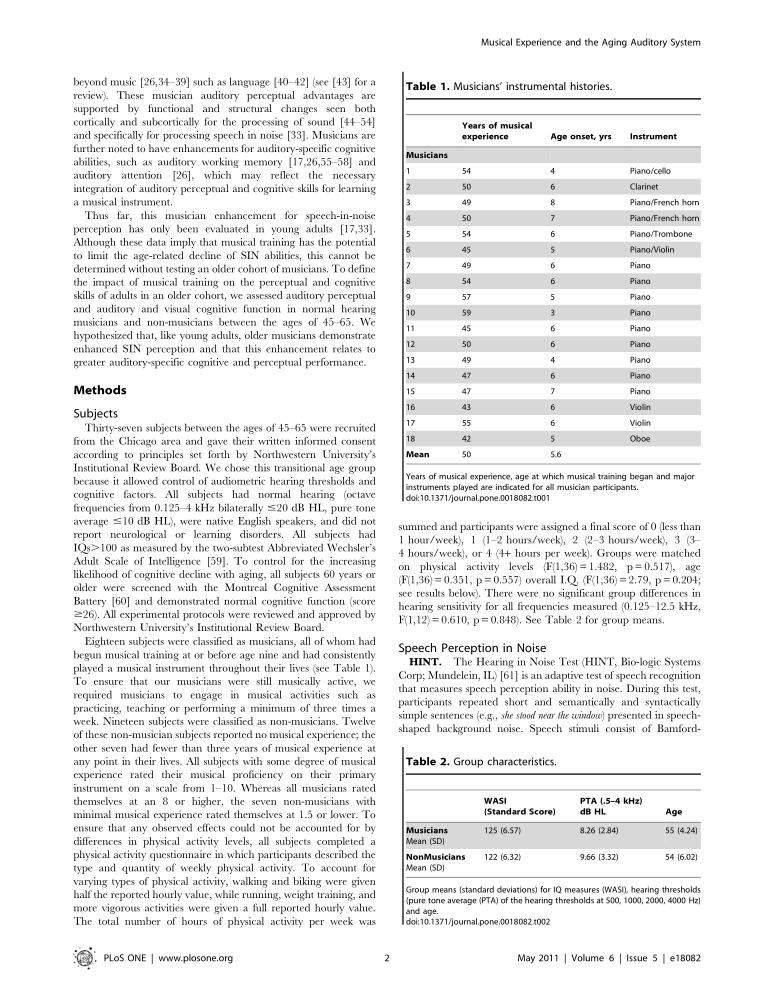table: (405, 121, 699, 459), (405, 797, 697, 872)
